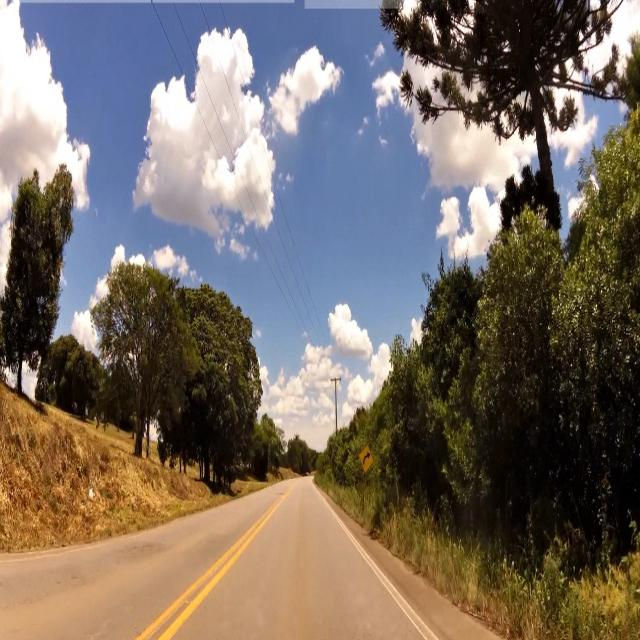A-2b: (358, 441, 374, 476)
